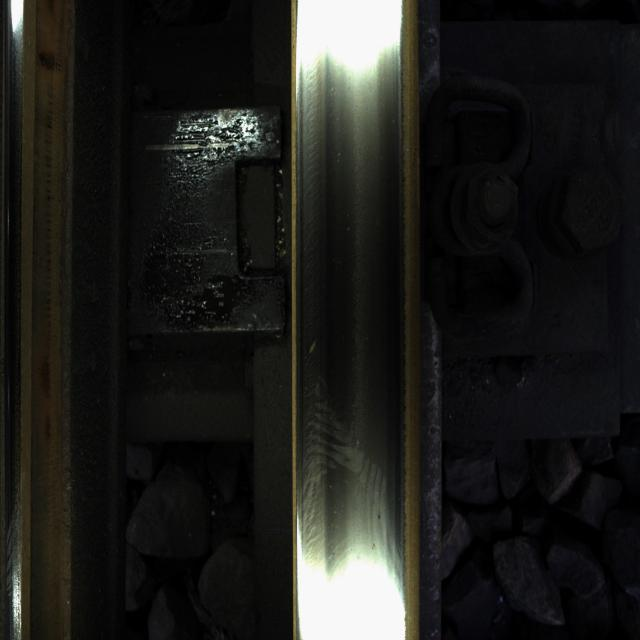break: (305, 67, 395, 592)
